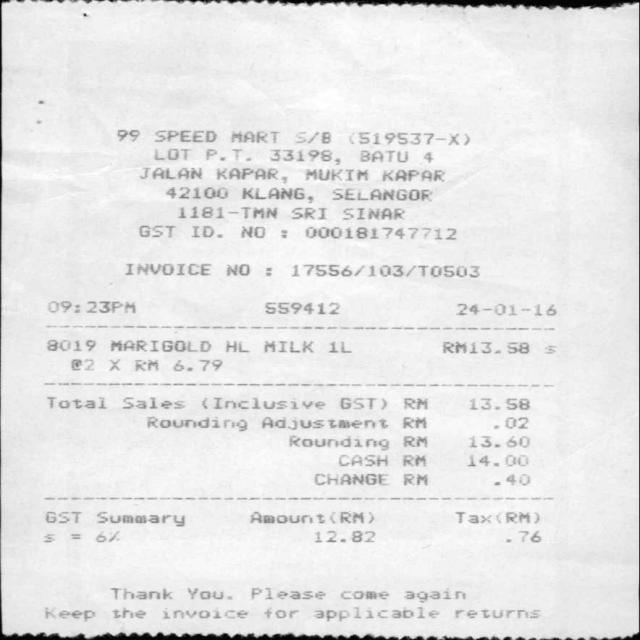text: (292, 264, 478, 277), (314, 606, 438, 622), (306, 226, 454, 238), (346, 132, 471, 145), (262, 416, 387, 428), (288, 435, 388, 450), (248, 511, 372, 523), (200, 397, 323, 409), (147, 416, 246, 430), (178, 206, 277, 218), (110, 339, 209, 351), (457, 302, 554, 314), (214, 167, 286, 183), (330, 188, 426, 200), (268, 149, 339, 165), (97, 512, 183, 525), (240, 187, 312, 202), (45, 300, 134, 312), (442, 340, 528, 352), (124, 262, 208, 274), (161, 606, 245, 618), (455, 512, 540, 523), (248, 587, 323, 599), (313, 472, 387, 484), (404, 588, 466, 602), (264, 302, 335, 314), (108, 587, 172, 600), (455, 608, 537, 618), (43, 606, 94, 622), (137, 167, 200, 179), (122, 396, 184, 408), (154, 130, 215, 142), (467, 454, 528, 466), (304, 168, 364, 180), (166, 186, 226, 198), (314, 530, 374, 542), (468, 397, 527, 409), (45, 396, 103, 408), (470, 435, 528, 447), (185, 586, 231, 600), (381, 170, 444, 180), (342, 208, 402, 218), (358, 150, 407, 162), (338, 454, 386, 466), (340, 397, 386, 409), (229, 131, 278, 142), (46, 339, 94, 350), (205, 148, 247, 160), (262, 341, 311, 351), (173, 360, 221, 370), (339, 590, 387, 600), (138, 224, 174, 237), (293, 132, 329, 144), (290, 207, 326, 219), (190, 224, 222, 237), (494, 473, 528, 485), (506, 530, 540, 542), (44, 511, 80, 522), (112, 606, 144, 618), (263, 607, 295, 619), (154, 149, 186, 159), (239, 225, 263, 238), (402, 397, 427, 409), (402, 435, 427, 447), (402, 473, 426, 485), (224, 263, 247, 275), (117, 129, 139, 141), (94, 530, 120, 540), (224, 341, 247, 352), (505, 416, 526, 428), (403, 417, 425, 428), (402, 454, 424, 465), (69, 359, 92, 369), (328, 342, 349, 352), (135, 359, 155, 369), (106, 358, 119, 370), (422, 152, 434, 162), (42, 532, 54, 540), (544, 345, 554, 354)
